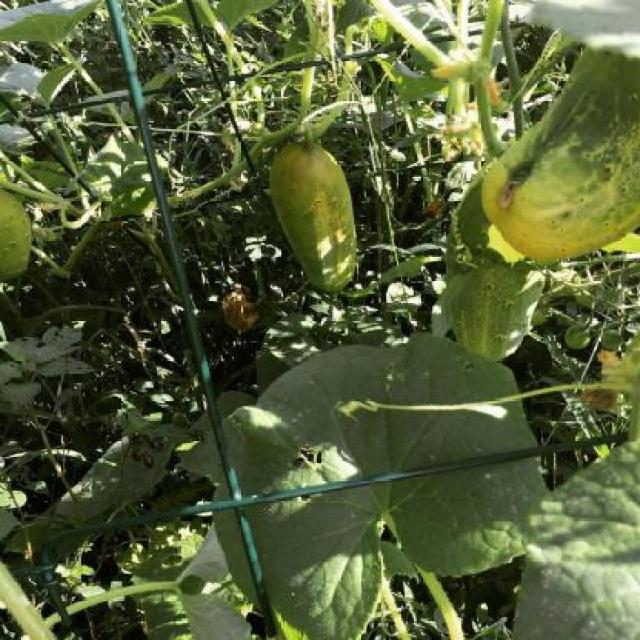Cucumber: (478, 44, 628, 270), (443, 174, 546, 360), (267, 141, 358, 297), (0, 191, 32, 279)
